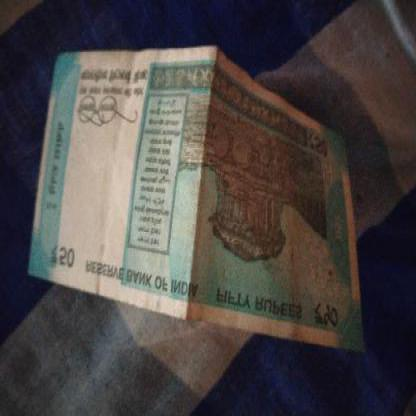New50Back: (3, 48, 367, 350)
